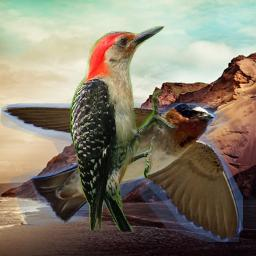Swallow: (1, 103, 243, 242)
Woodpecker: (70, 26, 180, 232)
